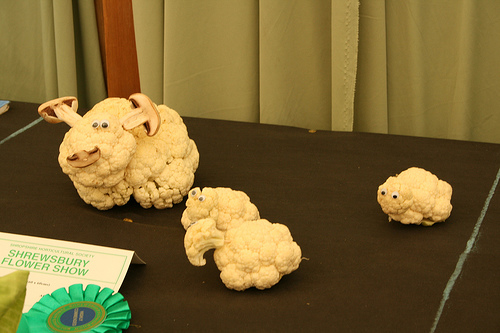cauliflower: (57, 96, 199, 208), (181, 181, 311, 296), (373, 157, 463, 232)
